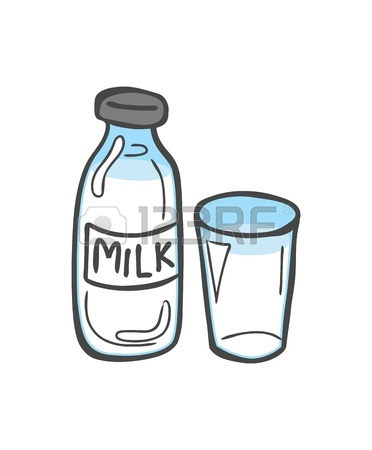glass of milk: (71, 82, 191, 366), (191, 182, 299, 370)
